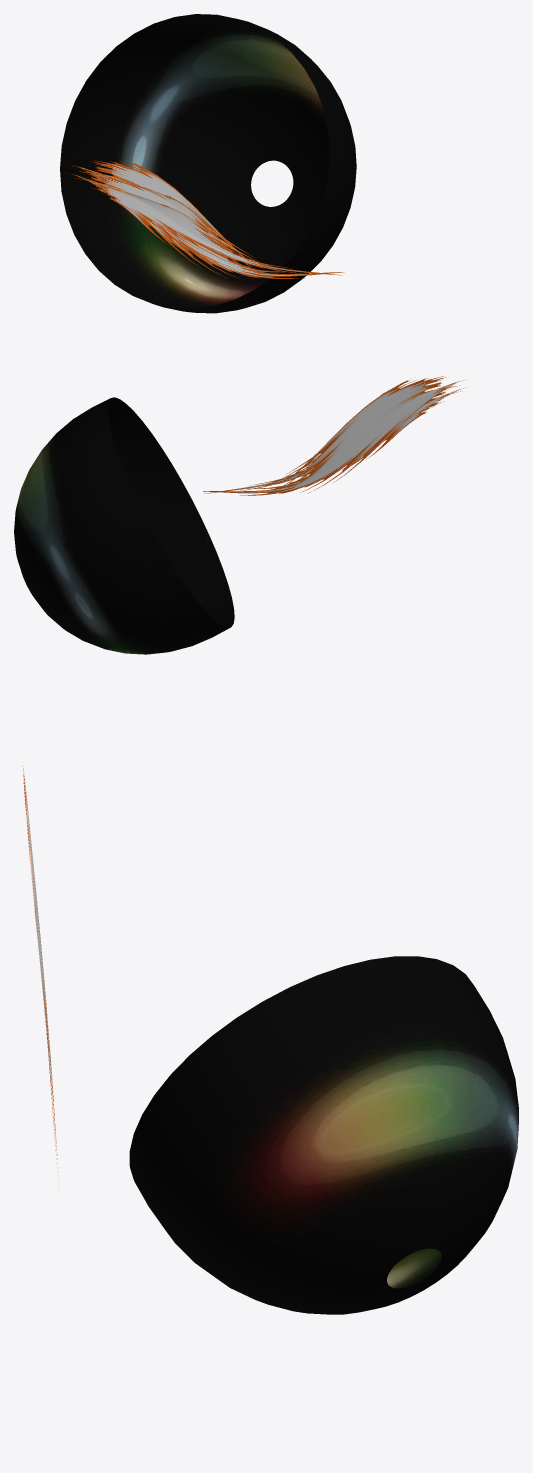
The model's file is fx_cookie0038_front_skill01.fbx.
3 views of the same model, one above another, from view 1: azimuth 30°, elevation 25°; view 2: azimuth 150°, elevation 25°; view 3: azimuth 270°, elevation 25° (orthographic). The views are drawn at different scales.
Visible parts, largest first — view 1: glow, L_scratch, L_scratch1; view 2: glow, L_scratch, L_scratch1; view 3: glow.
Part boxes in pixels (x1,y1,x2,y2): glow: (60,14,356,313); L_scratch: (72,160,344,278); L_scratch1: (69,173,343,275); glow: (14,397,234,654); L_scratch: (203,376,465,495); L_scratch1: (204,387,463,493); glow: (129,956,518,1314).
Size of the model in its own units: 767 by 458 by 478.
3 materials, 3 textured.
